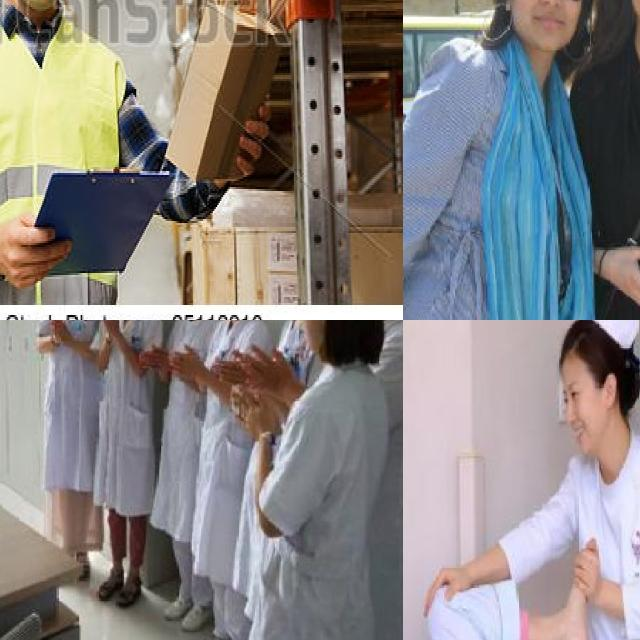No_Ear-Protection: (598, 370, 620, 410)
face_nomask: (560, 354, 608, 454), (298, 320, 325, 346)
hand_noglove: (0, 213, 72, 288), (603, 243, 640, 320), (236, 104, 271, 177), (230, 385, 274, 440), (421, 564, 469, 613), (249, 343, 290, 399), (572, 546, 599, 602), (210, 349, 246, 388), (172, 343, 199, 377), (138, 345, 167, 372), (48, 320, 67, 343), (99, 320, 118, 340)
head_nohelmet: (550, 320, 622, 373)
person: (403, 0, 598, 320), (233, 320, 402, 640), (506, 320, 640, 640), (403, 544, 640, 640), (574, 0, 640, 320), (95, 320, 166, 609), (30, 320, 113, 567), (205, 320, 264, 640), (162, 320, 208, 630)
